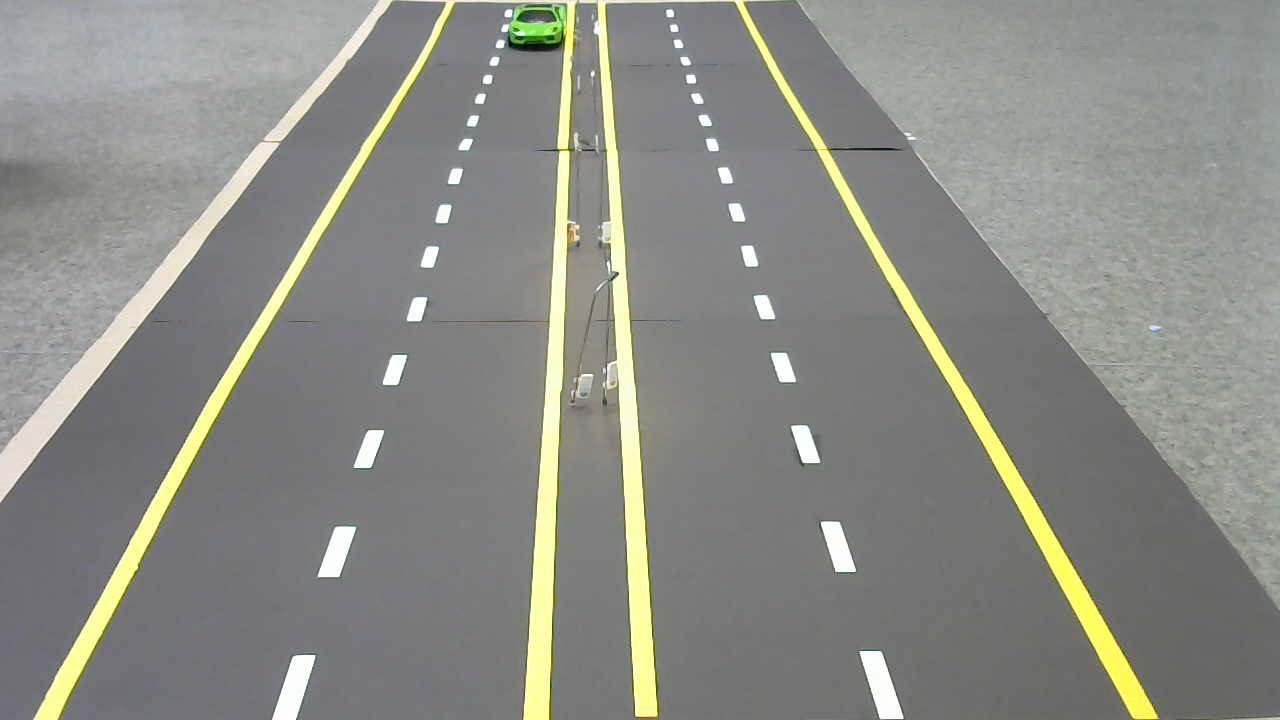front_car: (504, 2, 568, 53)
